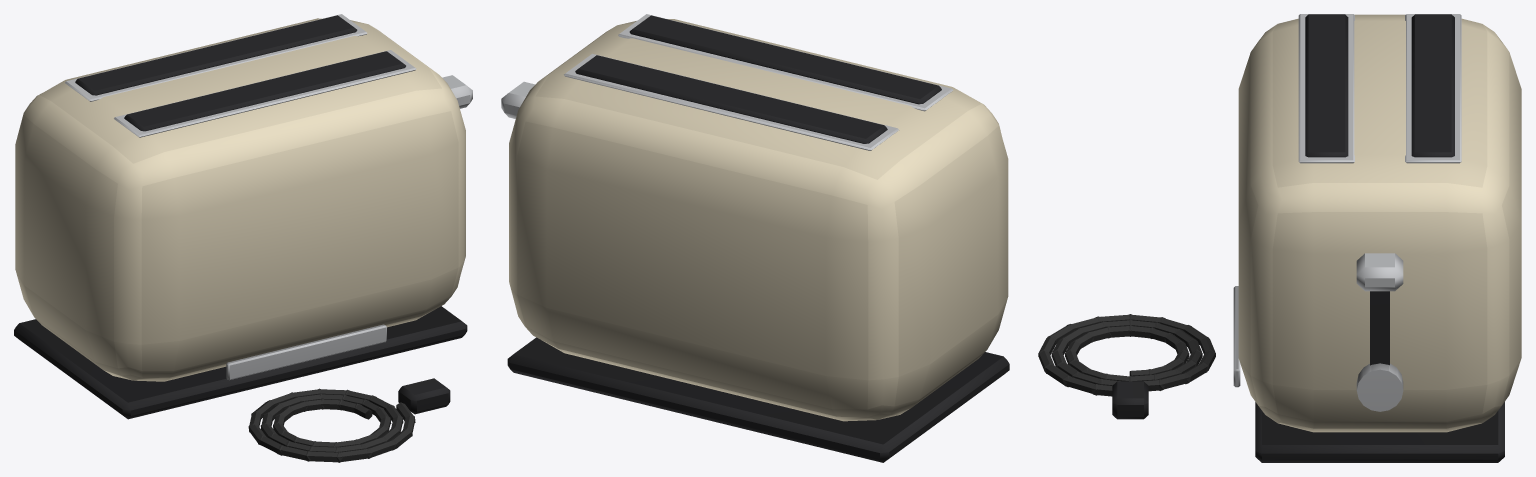
The model's file is toaster.glb.
The picture shows the model from 3 angles, left to right: view 1: azimuth 30°, elevation 25°; view 2: azimuth 150°, elevation 25°; view 3: azimuth 270°, elevation 25°; orthographic projection. The views are drawn at different scales.
Parts seen in each view (by area): view 1: body, lift_plug; view 2: body; view 3: body, lift_plug.
Part boxes in pixels (left/top/right/bottom): body: left=14, top=14, right=472, bottom=462; lift_plug: left=398, top=378, right=450, bottom=414; body: left=501, top=14, right=1009, bottom=462; body: left=1038, top=14, right=1521, bottom=462; lift_plug: left=1112, top=381, right=1148, bottom=419.
Size of what is drawn, in the model's own units: 0.31 by 0.1934 by 0.2903.
